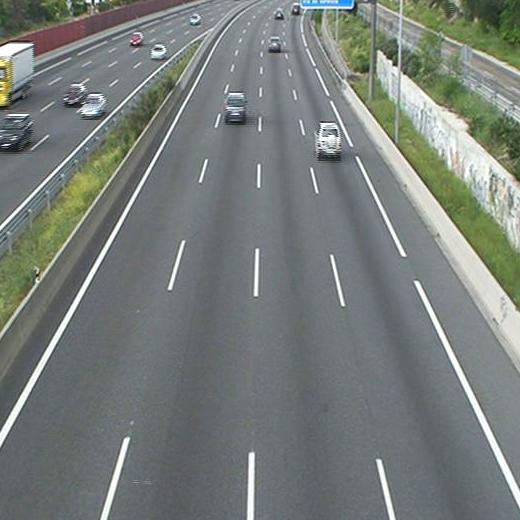car: (314, 123, 342, 156), (225, 93, 246, 120), (268, 36, 281, 50), (274, 8, 284, 18), (291, 3, 300, 13)
